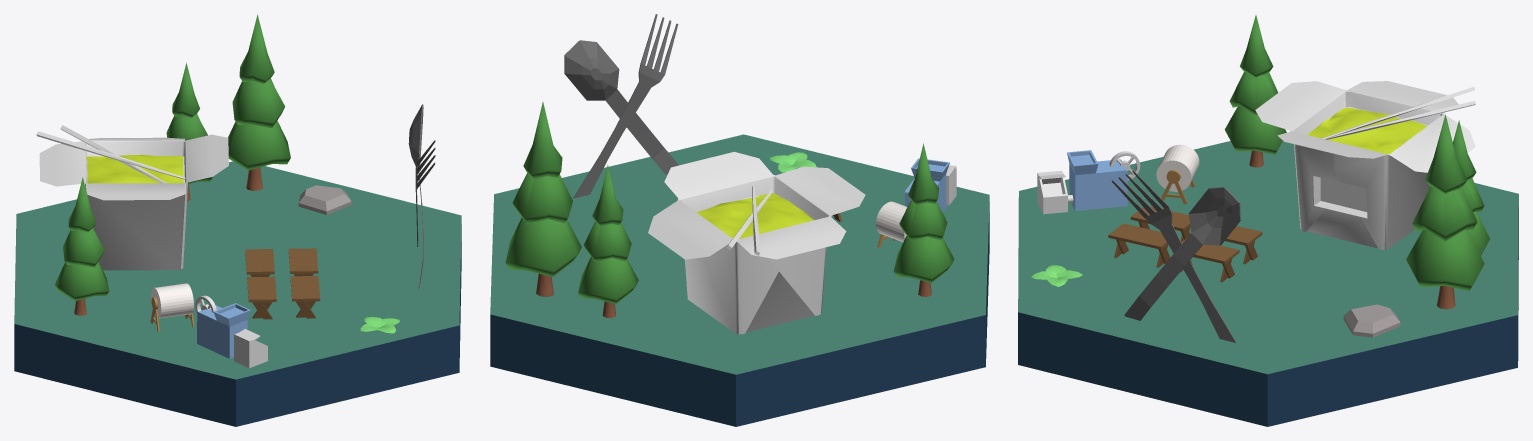
File: Macro - Restaurant lvl 1 WM3.fbx
3 views of the same model, side by side, from view 1: azimuth 30°, elevation 25°; view 2: azimuth 150°, elevation 25°; view 3: azimuth 270°, elevation 25° (orthographic). The views are drawn at different scales.
Parts seen in each view (by area): view 1: Cylinder.176, Cube.108, Tree_Spruce_tiny_01.002, Tree_Spruce_tiny_01.003, Cube.002, Tree_Spruce_tiny_01.001, Cylinder.019, Rock Type4 04 mesh.013, Cube.004, table.003, table.002, Plane.116 (+4 smaller); view 2: Cylinder.176, Cube.108, Tree_Spruce_tiny_01.002, Tree_Spruce_tiny_01.001, Tree_Spruce_tiny_01.003, Plane.116, Plane.117, Cylinder.019, Cube.002, Plane.011; view 3: Cylinder.176, Cube.108, Tree_Spruce_tiny_01.002, Tree_Spruce_tiny_01.003, Plane.116, Cube.002, Plane.117, Tree_Spruce_tiny_01.001, Rock Type4 04 mesh.013, Cylinder.019, table.002, Cube.004 (+4 smaller).
Part boxes in pixels (x1,y1,x2,y2): Cylinder.176: (14,161,461,426); Cube.108: (36,125,228,270); Tree_Spruce_tiny_01.002: (228,14,290,190); Tree_Spruce_tiny_01.003: (54,177,109,315); Cube.002: (197,303,250,358); Tree_Spruce_tiny_01.001: (166,62,212,201); Cylinder.019: (151,283,193,318); Rock Type4 04 mesh.013: (298,185,351,214); Cube.004: (234,329,267,368); table.003: (247,276,276,319); table.002: (290,276,320,318); Plane.116: (408,104,423,288); Cylinder.176: (490,134,989,426); Cube.108: (648,151,865,334); Tree_Spruce_tiny_01.002: (505,102,581,296); Tree_Spruce_tiny_01.001: (578,165,638,318); Tree_Spruce_tiny_01.003: (893,143,954,296); Plane.116: (564,40,678,174); Plane.117: (573,14,678,198); Cylinder.019: (876,201,907,241); Cube.002: (905,158,949,212); Plane.011: (770,152,816,172); Cylinder.176: (1018,141,1518,426); Cube.108: (1255,81,1475,249); Tree_Spruce_tiny_01.002: (1406,114,1484,309); Tree_Spruce_tiny_01.003: (1224,15,1286,167); Plane.116: (1124,187,1240,320); Cube.002: (1067,150,1127,210); Plane.117: (1111,170,1236,342); Tree_Spruce_tiny_01.001: (1453,120,1489,255); Rock Type4 04 mesh.013: (1343,304,1400,337); Cylinder.019: (1156,144,1199,191); table.002: (1108,223,1170,267); Cube.004: (1037,170,1067,214).
Bounding box in the file's own units: 197 × 93.23 × 172.
